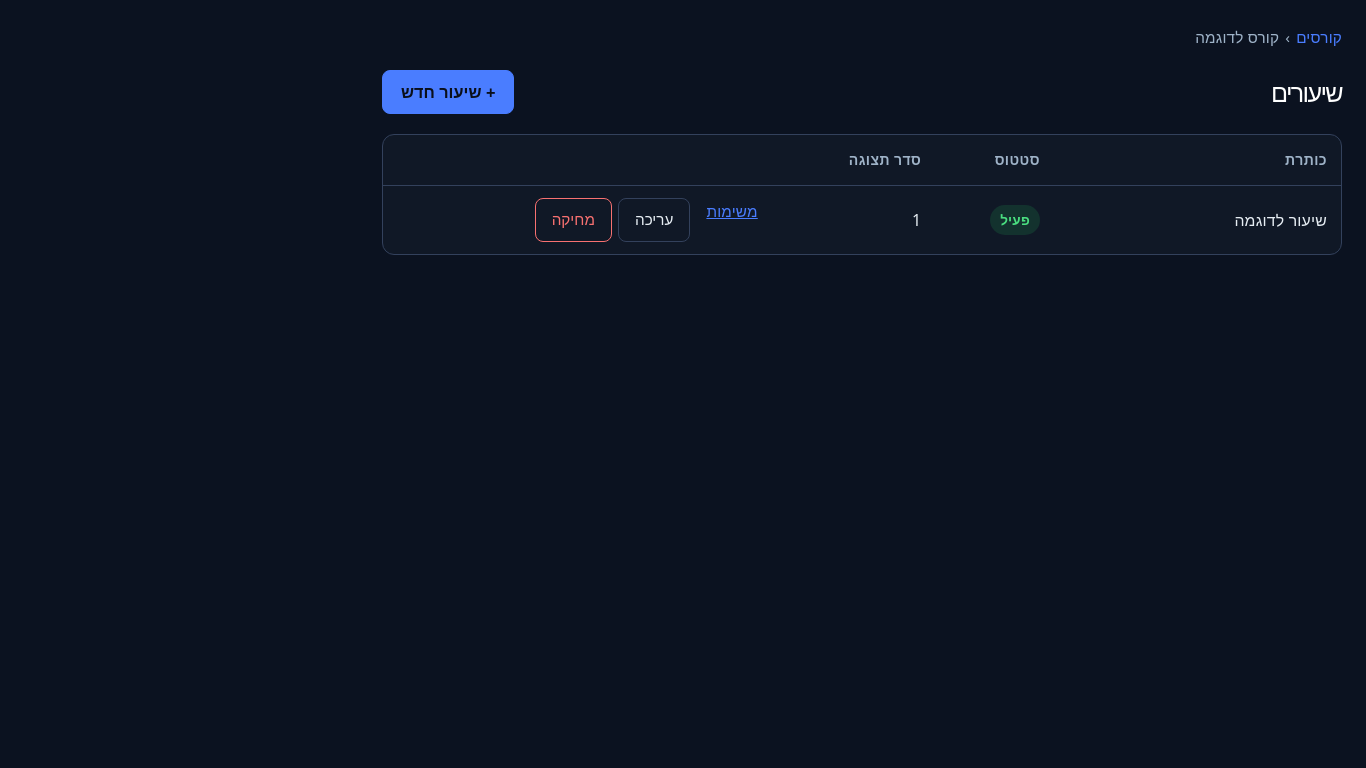
AdminLessons › creates a lesson once the title is filled in, scoped to the current course
Click the button "+ שיעור חדש" at (448, 92), box [382,70,514,114]
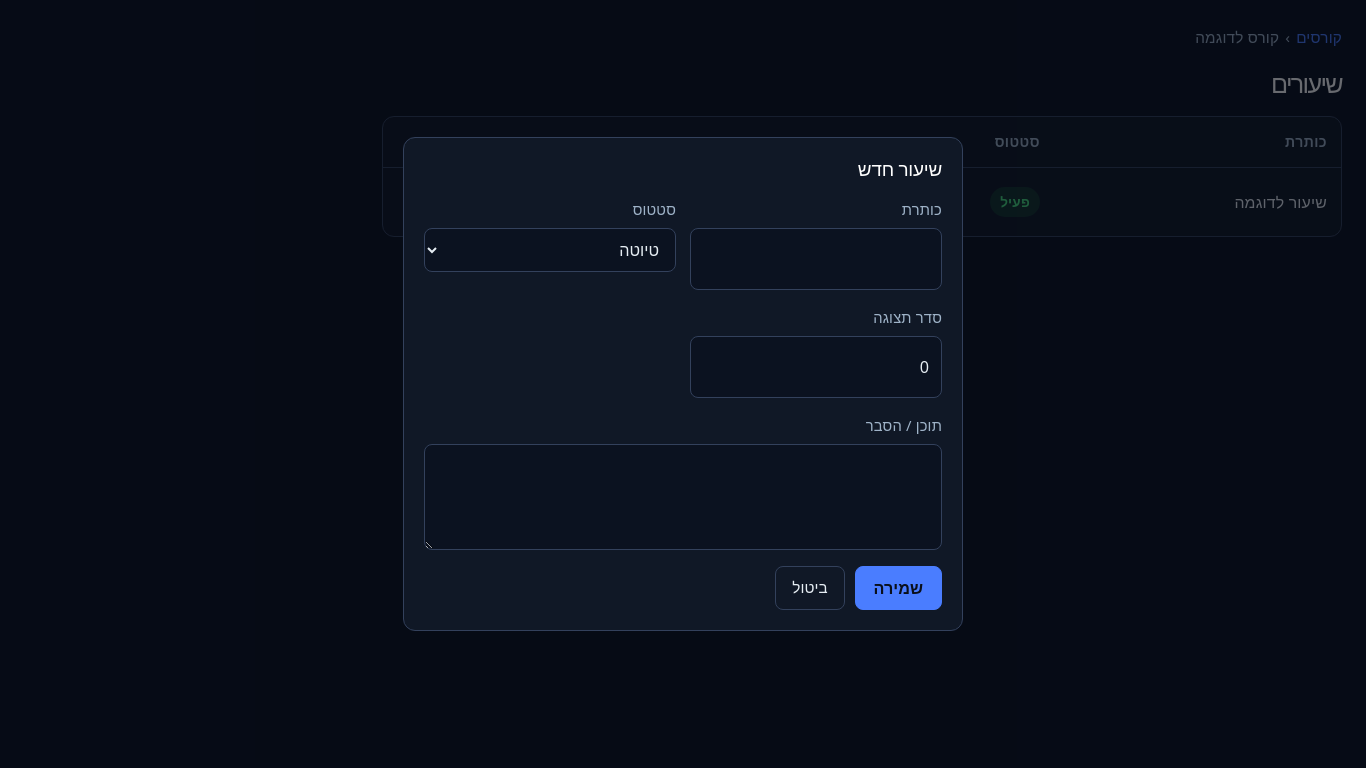
Type "שיעור חדש" into the field labelled "כותרת" at (816, 259), box [690,228,942,290]
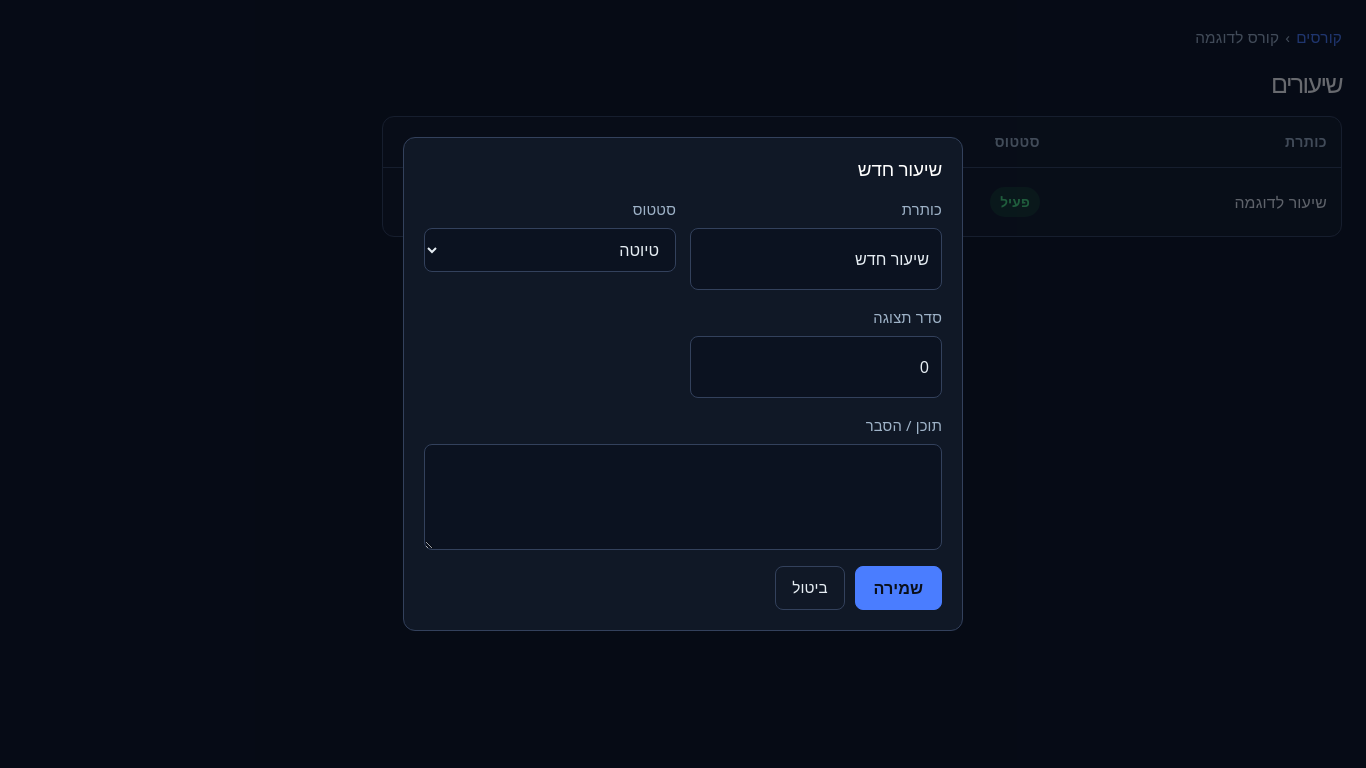
Click the button "שמירה" at (898, 588), box [854,566,942,610]
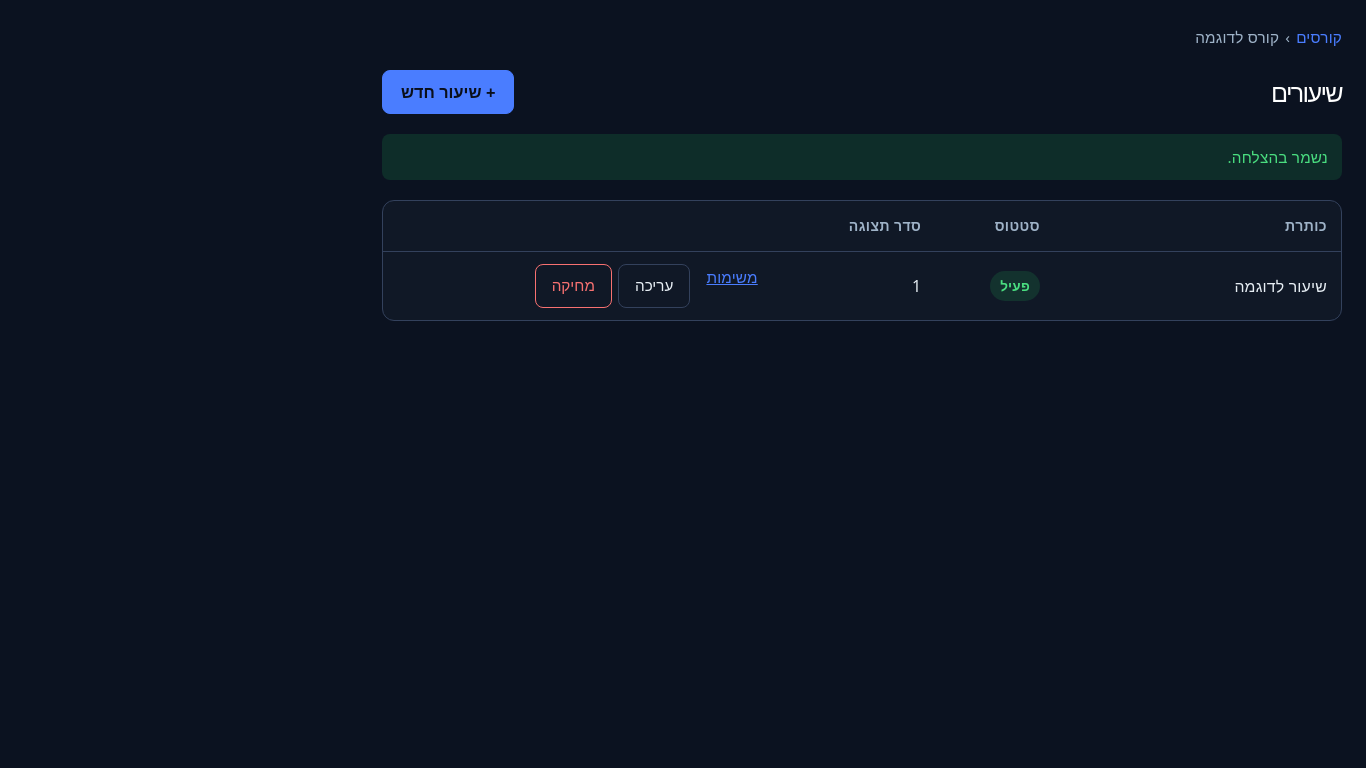
Result: the text "נשמר בהצלחה." is shown at [382,134,1342,180]
